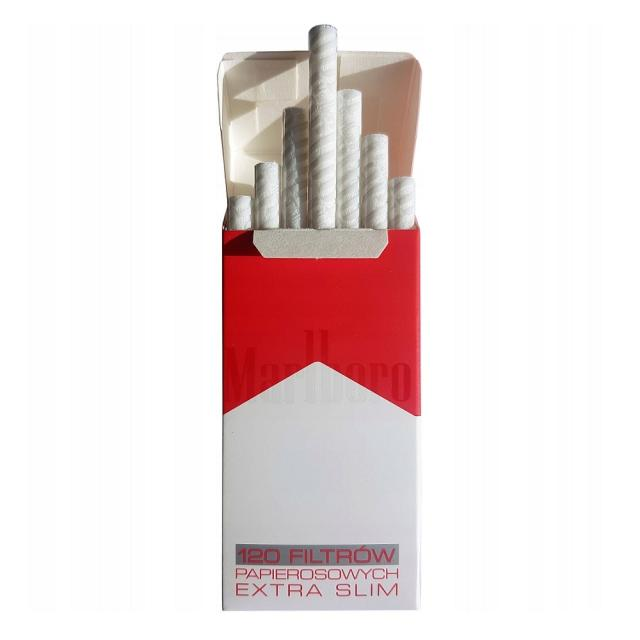marlboro: (214, 42, 421, 605)
